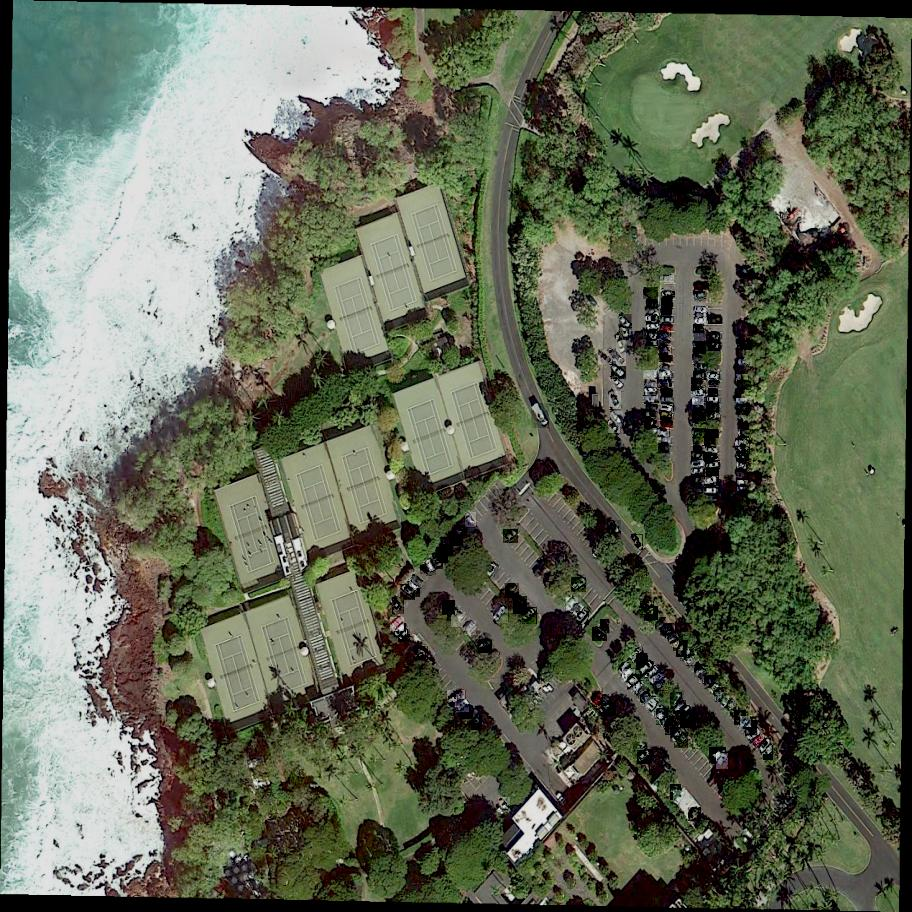large-vehicle: (531, 403, 552, 428)
small-vehicle: (447, 690, 468, 707), (708, 747, 727, 764), (680, 710, 697, 729), (511, 596, 528, 614), (599, 349, 617, 366), (522, 608, 539, 625), (400, 584, 418, 600), (493, 606, 509, 624), (610, 411, 626, 428), (610, 375, 626, 392), (610, 350, 627, 366), (673, 733, 690, 749), (650, 703, 666, 720), (607, 521, 623, 538), (633, 742, 648, 760), (506, 583, 521, 601), (608, 391, 622, 410), (639, 661, 655, 677), (599, 703, 616, 718), (596, 695, 611, 711), (716, 753, 731, 769), (673, 700, 689, 715), (631, 647, 646, 663), (665, 719, 680, 735), (669, 727, 684, 743), (451, 613, 467, 628), (442, 601, 457, 617), (449, 531, 465, 546), (686, 651, 701, 667), (674, 790, 688, 807), (670, 693, 684, 710), (503, 529, 520, 543), (485, 562, 499, 579), (592, 628, 609, 642), (676, 640, 689, 658), (688, 808, 703, 823), (570, 603, 585, 618), (704, 675, 719, 690), (637, 750, 653, 764), (612, 366, 628, 380), (644, 667, 660, 681), (646, 697, 662, 711), (411, 575, 427, 589), (477, 640, 493, 654), (758, 739, 772, 755), (571, 578, 587, 592), (719, 694, 733, 710), (636, 654, 649, 671), (656, 708, 669, 725), (392, 597, 405, 614), (408, 579, 420, 597), (619, 314, 634, 328), (655, 677, 669, 692), (622, 669, 637, 683), (628, 675, 642, 690), (632, 680, 647, 694), (641, 692, 655, 707), (394, 623, 408, 638), (390, 618, 405, 632), (446, 607, 460, 622), (463, 621, 477, 636), (464, 512, 478, 527), (565, 597, 579, 612), (656, 618, 670, 633), (644, 606, 658, 621), (459, 706, 475, 719), (498, 797, 511, 813), (413, 647, 429, 660), (747, 728, 763, 741), (745, 721, 758, 737), (680, 648, 696, 661), (631, 535, 644, 551), (425, 558, 437, 575), (616, 336, 627, 354), (753, 734, 767, 748), (607, 421, 621, 435), (640, 602, 654, 616), (714, 688, 728, 702), (471, 716, 484, 731), (467, 709, 480, 724), (660, 623, 675, 636), (665, 631, 680, 644), (670, 784, 682, 800), (643, 288, 659, 300), (650, 673, 666, 685), (637, 685, 649, 701), (436, 547, 448, 563), (644, 419, 660, 431), (692, 354, 708, 366), (657, 378, 674, 389), (618, 663, 631, 677), (454, 525, 468, 538), (577, 611, 590, 625), (695, 665, 709, 678), (591, 692, 603, 707), (763, 745, 775, 760), (680, 705, 692, 720), (455, 700, 470, 712), (691, 378, 706, 390), (698, 671, 713, 683), (734, 710, 746, 725), (736, 461, 751, 473), (691, 451, 706, 463), (706, 467, 721, 479), (432, 553, 443, 569), (705, 460, 721, 471), (739, 269, 756, 279), (661, 716, 674, 729), (740, 716, 753, 729), (441, 545, 455, 557), (659, 337, 673, 349), (737, 405, 751, 417), (692, 330, 706, 342), (658, 427, 672, 439), (658, 362, 673, 373), (659, 371, 674, 382), (673, 636, 684, 651), (600, 619, 610, 635), (399, 630, 412, 642), (420, 565, 434, 576), (692, 428, 706, 439), (643, 410, 657, 421), (660, 298, 674, 309), (708, 340, 722, 351), (658, 444, 672, 455), (619, 325, 629, 340), (736, 396, 751, 406), (705, 430, 720, 440), (735, 389, 750, 399), (694, 307, 709, 317), (691, 388, 706, 398), (705, 477, 720, 487), (737, 341, 753, 350), (646, 306, 660, 316), (694, 291, 708, 301), (658, 330, 672, 340), (693, 371, 707, 381), (692, 396, 706, 406), (646, 331, 659, 341), (646, 315, 659, 325), (707, 404, 720, 414), (695, 316, 708, 326), (739, 358, 753, 367), (693, 413, 707, 422), (644, 371, 658, 380), (708, 317, 723, 325), (657, 437, 672, 445), (693, 445, 705, 455), (646, 299, 659, 308), (662, 291, 675, 300), (658, 346, 671, 355), (738, 381, 751, 390), (693, 325, 706, 334), (693, 347, 706, 356), (661, 388, 674, 397), (736, 438, 749, 447), (659, 356, 673, 364), (709, 332, 721, 341), (662, 404, 674, 413), (738, 414, 751, 422), (693, 422, 706, 430), (646, 405, 659, 413), (690, 478, 703, 486), (704, 487, 717, 495), (661, 420, 673, 428), (646, 324, 659, 331), (661, 316, 674, 323), (660, 324, 673, 331), (661, 397, 674, 404), (644, 396, 655, 404), (708, 389, 719, 397), (646, 379, 657, 387), (737, 446, 749, 453), (737, 454, 749, 461), (692, 462, 704, 469), (705, 437, 715, 445), (661, 276, 674, 282), (695, 283, 708, 289), (738, 431, 751, 437), (646, 340, 658, 346), (736, 374, 748, 380), (707, 373, 719, 379), (706, 447, 718, 453), (692, 470, 704, 476), (661, 307, 671, 314), (694, 365, 708, 370), (705, 455, 715, 462), (661, 413, 672, 419), (708, 414, 718, 420), (708, 397, 720, 402), (709, 381, 719, 386), (693, 406, 703, 411), (693, 439, 703, 444), (693, 342, 705, 346), (645, 389, 657, 393), (738, 481, 748, 485), (737, 488, 747, 492)
